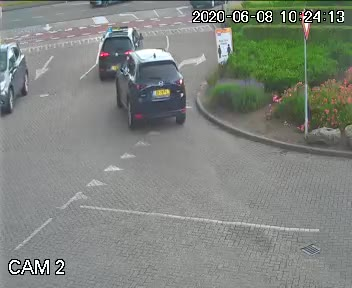car: (113, 48, 194, 135), (86, 20, 138, 77), (0, 43, 37, 123)
